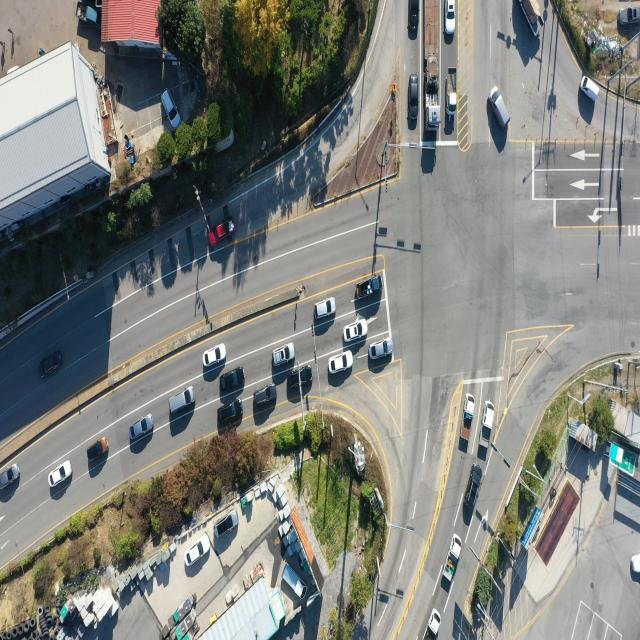car: (467, 465, 485, 513), (490, 86, 510, 129), (208, 218, 236, 246), (171, 384, 198, 413), (184, 536, 208, 568), (161, 91, 179, 132), (50, 460, 73, 488), (286, 365, 313, 388), (329, 351, 354, 375), (132, 415, 155, 441), (42, 352, 65, 378), (215, 513, 237, 540), (410, 76, 421, 130), (203, 344, 227, 368), (343, 319, 368, 342), (368, 338, 392, 361), (252, 384, 276, 407), (218, 402, 242, 425), (219, 368, 244, 390), (579, 71, 598, 99), (272, 344, 295, 367), (0, 463, 19, 490), (314, 298, 336, 320), (85, 437, 107, 459), (410, 0, 421, 40), (619, 6, 640, 25), (446, 0, 456, 34), (631, 554, 640, 576)
large_truck: (423, 0, 440, 126)
medium_truck: (518, 0, 544, 37)
small_truck: (280, 566, 307, 605), (442, 535, 461, 584), (356, 275, 384, 303), (461, 394, 476, 444), (481, 400, 495, 451), (76, 2, 99, 26), (427, 606, 443, 636), (446, 67, 456, 109)
